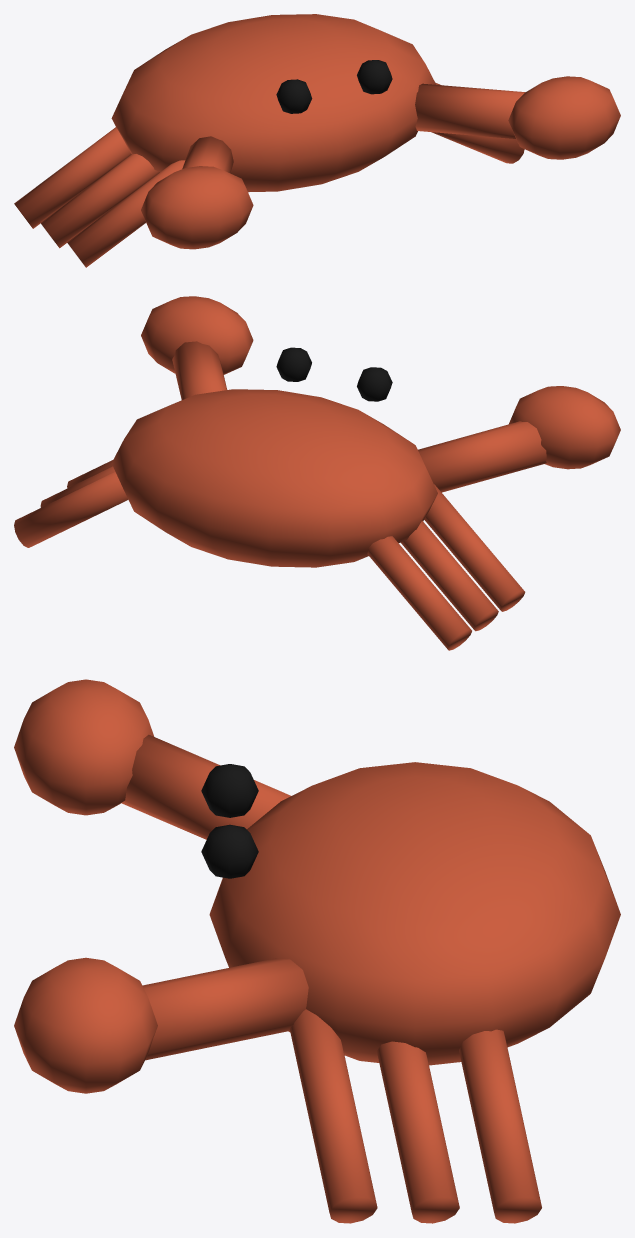
File: crab.glb
3 views of the same model, one above another, from view 1: azimuth 30°, elevation 25°; view 2: azimuth 150°, elevation 25°; view 3: azimuth 270°, elevation 25° (orthographic). The views are drawn at different scales.
Parts seen in each view (by area): view 1: crab.001; view 2: crab.001; view 3: crab.001.
Part boxes in pixels (x1=…): crab.001: x1=14, y1=14, x2=620, y2=267; crab.001: x1=14, y1=296, x2=620, y2=650; crab.001: x1=14, y1=679, x2=620, y2=1223.
Size of the model in its own units: 0.41 by 0.1441 by 0.295.
